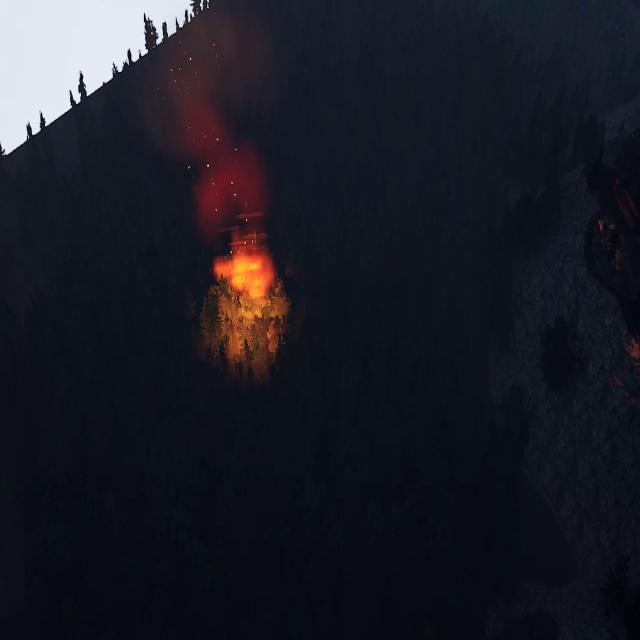fire: (214, 240, 272, 303)
smoke: (139, 1, 265, 236)
